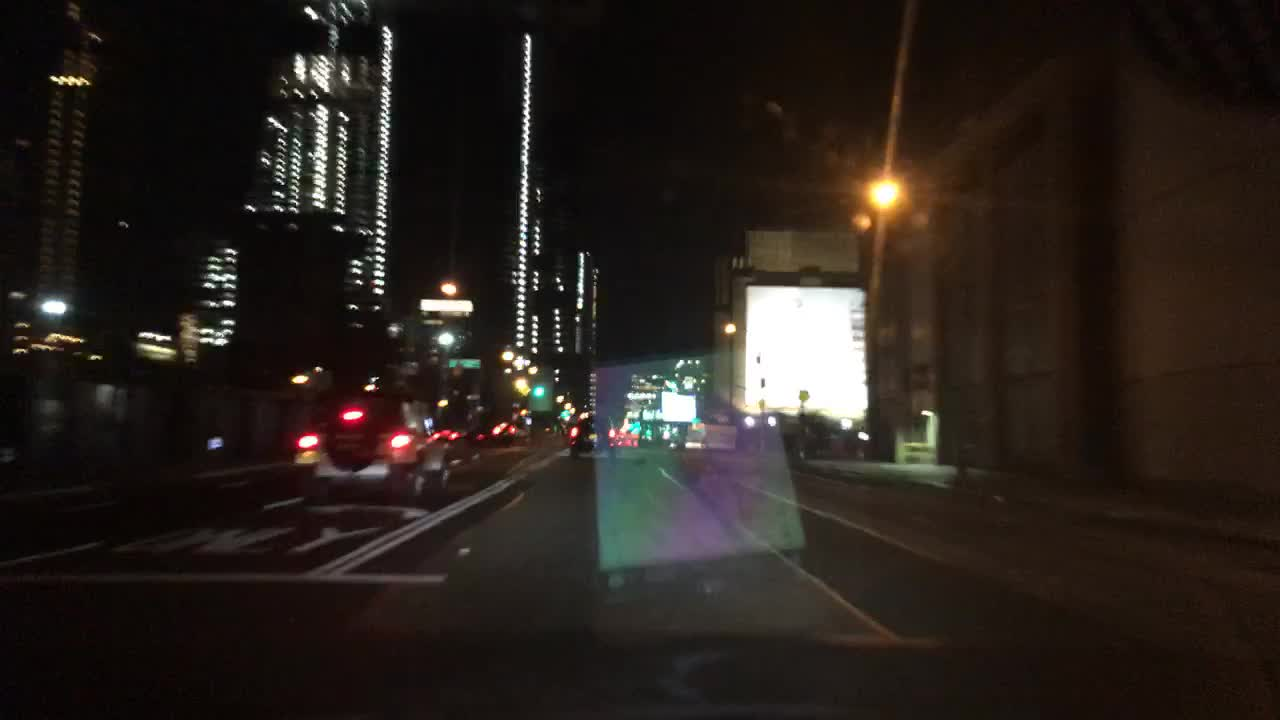car: (290, 388, 452, 503), (567, 412, 621, 466), (474, 415, 516, 447), (425, 427, 469, 452), (619, 432, 639, 452)
traffic light: (533, 380, 543, 400)
traffic sign: (447, 356, 481, 369), (796, 388, 810, 403)
